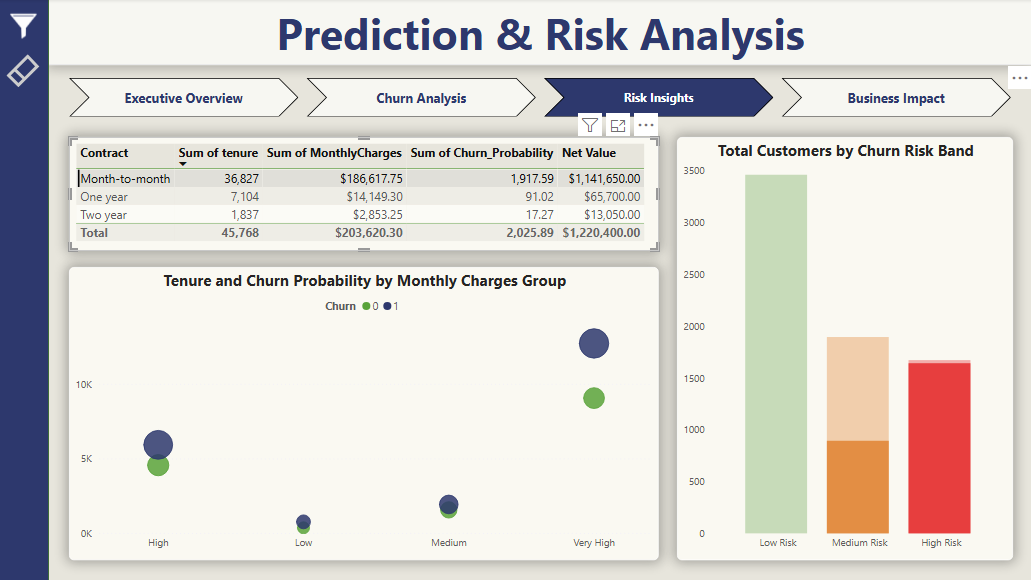

The page's visual inventory and layout, read from the dashboard file:
{"tool":"powerbi","page":{"name":"Risk Insights","canvas":[1280,720],"ordinal":2},"visuals":[{"type":"textbox","box":[60.7,0,1219.3,81.7],"z":0},{"type":"tableEx","fields":{"Values":["customer_churn_predictions.Contract","Sum(customer_churn_predictions.tenure)","Sum(customer_churn_predictions.MonthlyCharges)","Sum(customer_churn_predictions.Churn_Probability)","Measure_Table.Net Value"]},"box":[86.7,170.8,693.2,141.1],"z":1000},{"type":"clusteredColumnChart","fields":{"Y":["Measure_Table.Total Customers"],"Category":["customer_churn_predictions.Churn Risk Band"]},"box":[808.4,170.8,444.4,523.6],"z":2000},{"type":"scatterChart","title":"Tenure and Churn Probability by Monthly Charges Group","fields":{"X":["customer_churn_predictions.MonthlyCharges_group"],"Y":["Sum(customer_churn_predictions.tenure)"],"Series":["customer_churn_predictions.Churn"],"Size":["Sum(customer_churn_predictions.Churn_Probability)"]},"box":[86.7,324.3,693.2,370.1],"z":3000},{"type":"shape","box":[0,0,61.9,720.5],"z":4000},{"type":"actionButton","box":[0,0,60.7,64.4],"z":5000},{"type":"actionButton","title":"Clear Filters","box":[0,64.5,60.4,49.4],"z":6000},{"type":"pageNavigator","box":[86.7,97.8,1168.6,48.3],"z":7000}]}

Visuals, with their boxes on the page's 1280x720 design canvas (x1, y1, x2, y2). These are canvas units, not pixel positions in the 1031x580 screenshot, which may show the page scaled, cropped or inside an application window:
textbox: {"x1": 61, "y1": 0, "x2": 1280, "y2": 82}
tableEx - customer_churn_predictions.Contract x Sum(customer_churn_predictions.tenure): {"x1": 87, "y1": 171, "x2": 780, "y2": 312}
clusteredColumnChart - Measure_Table.Total Customers x customer_churn_predictions.Churn Risk Band: {"x1": 808, "y1": 171, "x2": 1253, "y2": 694}
"Tenure and Churn Probability by Monthly Charges Group" scatterChart: {"x1": 87, "y1": 324, "x2": 780, "y2": 694}
shape: {"x1": 0, "y1": 0, "x2": 62, "y2": 720}
actionButton: {"x1": 0, "y1": 0, "x2": 61, "y2": 64}
"Clear Filters" actionButton: {"x1": 0, "y1": 64, "x2": 60, "y2": 114}
pageNavigator: {"x1": 87, "y1": 98, "x2": 1255, "y2": 146}
